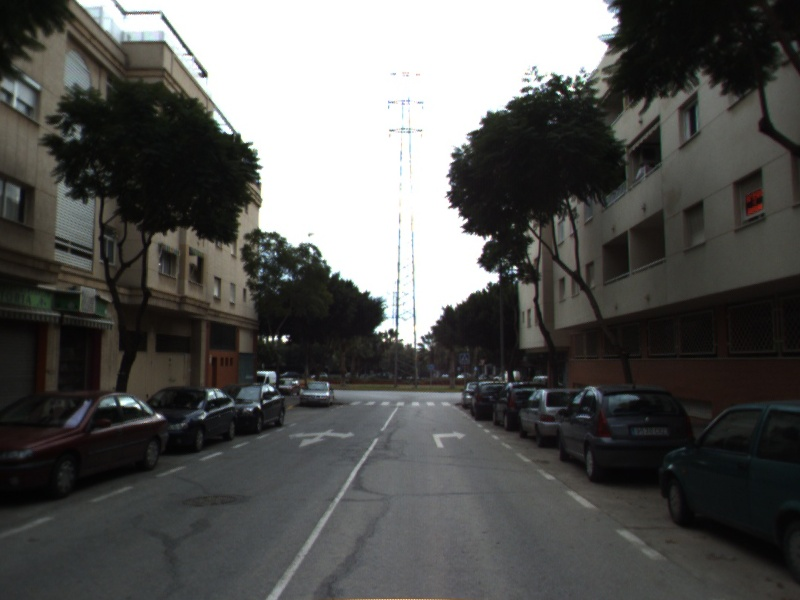RIGHT: (431, 429, 469, 450)
